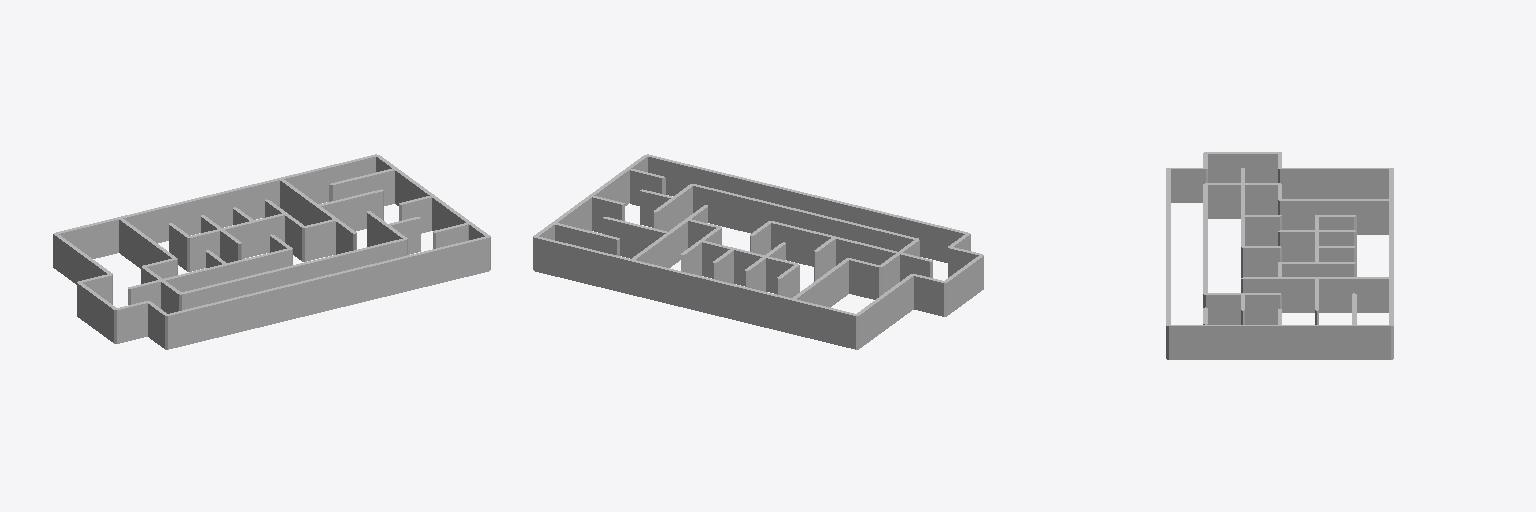
Rendered from Walls.obj.
3 renders of one model, left to right at view 1: azimuth 30°, elevation 25°; view 2: azimuth 150°, elevation 25°; view 3: azimuth 270°, elevation 25°, orthographic.
Parts seen in each view (by area): view 1: mergedBlocks; view 2: mergedBlocks; view 3: mergedBlocks.
Boxes of the visible parts, x1=… form: mergedBlocks: x1=53, y1=154, x2=490, y2=349; mergedBlocks: x1=533, y1=154, x2=983, y2=349; mergedBlocks: x1=1166, y1=152, x2=1393, y2=359.
Size of the model in its own units: 11.13 by 1 by 6.13.